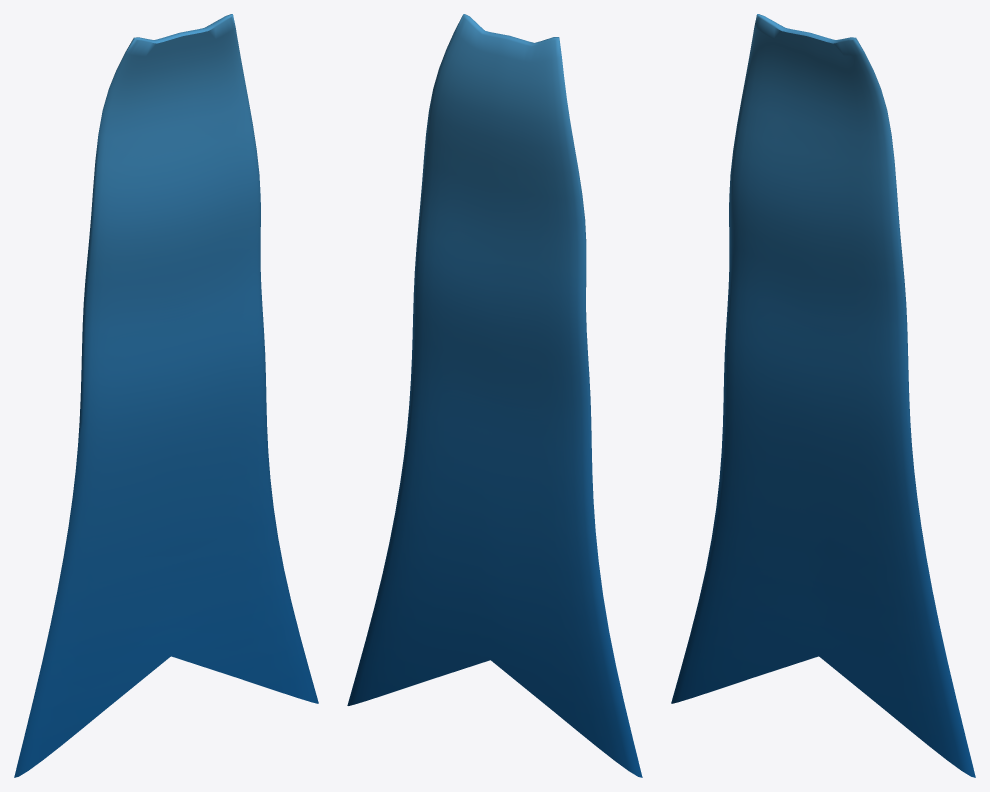
The model's file is Hero_Cape.fbx.
The picture shows the model from 3 angles, left to right: view 1: azimuth 30°, elevation 25°; view 2: azimuth 150°, elevation 25°; view 3: azimuth 330°, elevation 25°; orthographic projection. The views are drawn at different scales.
Parts seen in each view (by area): view 1: Cape; view 2: Cape; view 3: Cape.
Boxes of the visible parts, bbox=[...] form: Cape: bbox=[14, 14, 318, 777]; Cape: bbox=[347, 14, 642, 777]; Cape: bbox=[671, 14, 975, 777].
Bounding box in the file's own units: 52.81 × 120 × 6.76.
